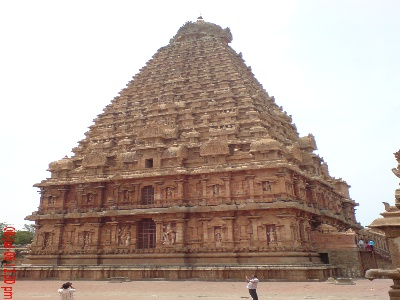gopuram: (37, 27, 336, 202)
